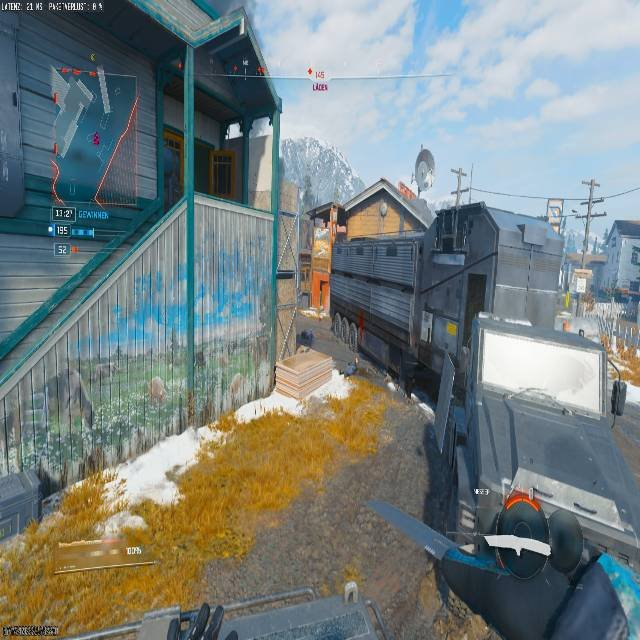head: (483, 496, 582, 575)
player: (435, 490, 639, 640)
